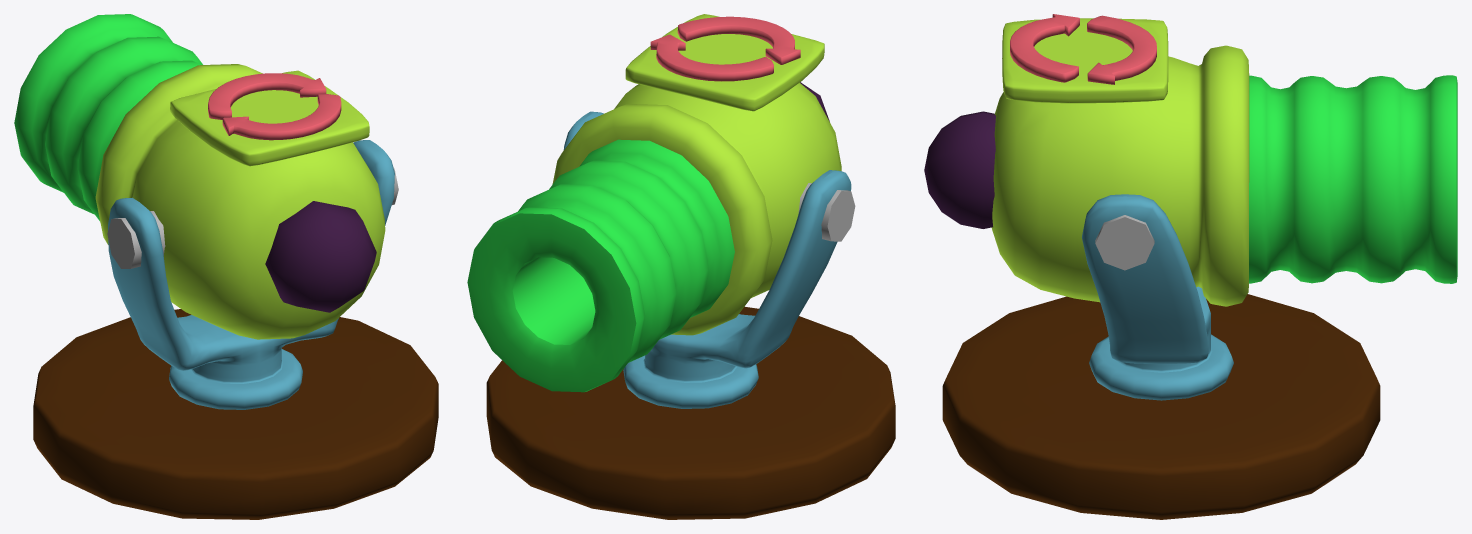
File: canon_2.fbx
The picture shows the model from 3 angles, left to right: view 1: azimuth 30°, elevation 25°; view 2: azimuth 150°, elevation 25°; view 3: azimuth 270°, elevation 25°; orthographic projection. The views are drawn at different scales.
Visible parts, largest first — view 1: Cylinder.001, Sphere.003, Cylinder.005, Cylinder.004, Sphere.002, Cube.001, Cube.003, Cylinder.003; view 2: Cylinder.001, Cylinder.005, Sphere.003, Cylinder.004, Cube.003, Cube.001, Cylinder.003; view 3: Cylinder.001, Sphere.003, Cylinder.005, Cylinder.004, Sphere.002, Cube.001, Cube.003, Cylinder.003.
Part boxes in pixels (<box>): Cylinder.001: <box>33,309,438,519</box>; Sphere.003: <box>95,64,385,339</box>; Cylinder.005: <box>14,14,202,220</box>; Cylinder.004: <box>108,140,394,409</box>; Sphere.002: <box>265,201,376,312</box>; Cube.001: <box>208,73,326,119</box>; Cube.003: <box>222,94,341,140</box>; Cylinder.003: <box>107,167,398,268</box>; Cylinder.001: <box>486,306,895,519</box>; Cylinder.005: <box>467,139,734,392</box>; Sphere.003: <box>552,14,841,335</box>; Cylinder.004: <box>564,111,851,408</box>; Cube.003: <box>677,16,800,64</box>; Cube.001: <box>650,34,773,81</box>; Cylinder.003: <box>563,149,855,241</box>; Cylinder.001: <box>942,294,1380,519</box>; Sphere.003: <box>991,18,1249,306</box>; Cylinder.005: <box>1249,75,1457,283</box>; Cylinder.004: <box>1082,194,1233,400</box>; Sphere.002: <box>924,111,995,228</box>; Cube.001: <box>1087,15,1156,84</box>; Cube.003: <box>1010,14,1079,82</box>; Cylinder.003: <box>1095,215,1154,270</box>.
Size of the model in its own units: 378 by 371 by 461.
